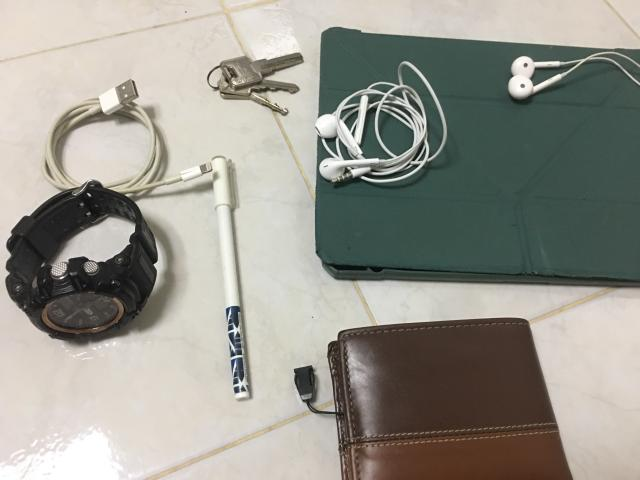Keys: (208, 52, 304, 115)
Pen: (211, 156, 250, 400)
Wallet: (328, 318, 571, 479)
Watch: (6, 181, 158, 340)
wire: (42, 79, 212, 194), (315, 61, 448, 184)
